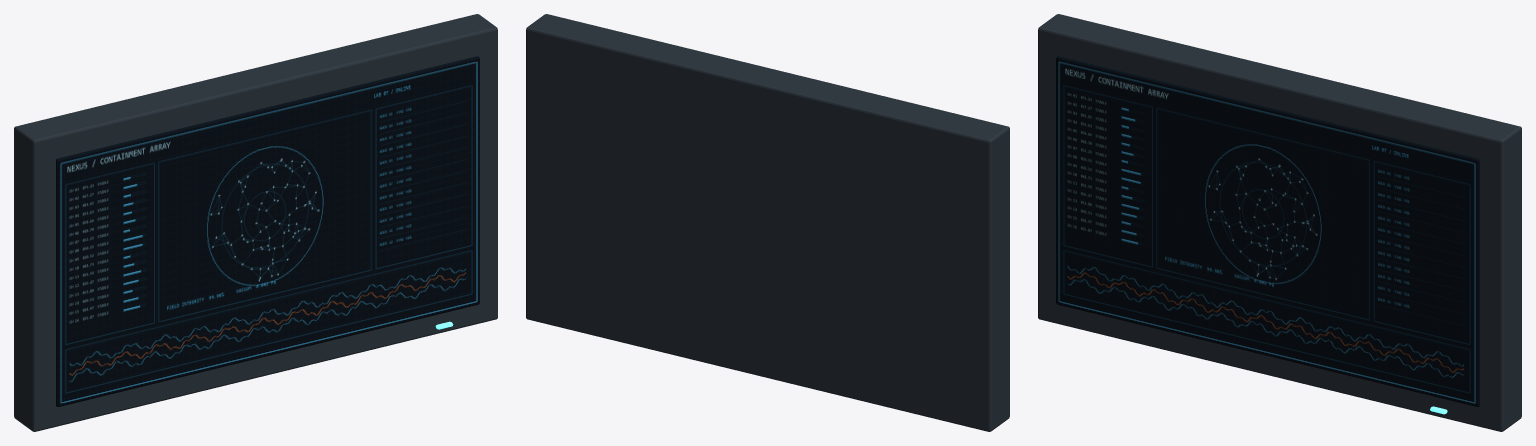
Rendered from SM_Lab_Console__Display_00.fbx.
3 views of the same model, side by side, from view 1: azimuth 30°, elevation 25°; view 2: azimuth 150°, elevation 25°; view 3: azimuth 330°, elevation 25° (orthographic).
Parts seen in each view (by area): view 1: SM_Lab_Console__Display_00; view 2: SM_Lab_Console__Display_00; view 3: SM_Lab_Console__Display_00.
Boxes of the visible parts, left/top/right/bottom form: SM_Lab_Console__Display_00: left=14, top=14, right=497, bottom=431; SM_Lab_Console__Display_00: left=526, top=14, right=1009, bottom=431; SM_Lab_Console__Display_00: left=1038, top=14, right=1521, bottom=431.
Bounding box in the file's own units: 72.5 × 7.2 × 43.5.
